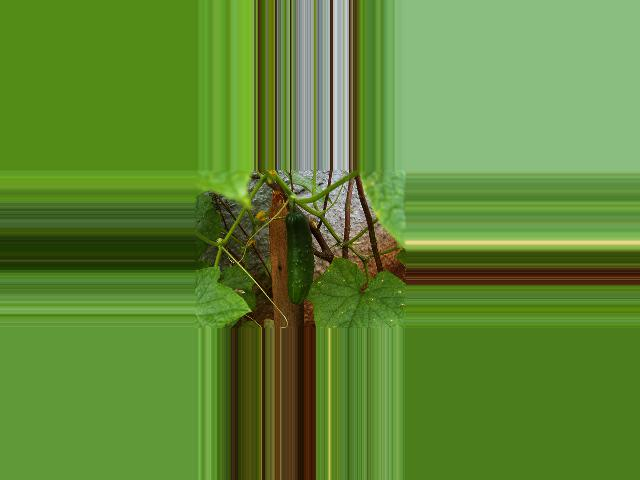cucumber: (284, 210, 313, 305)
